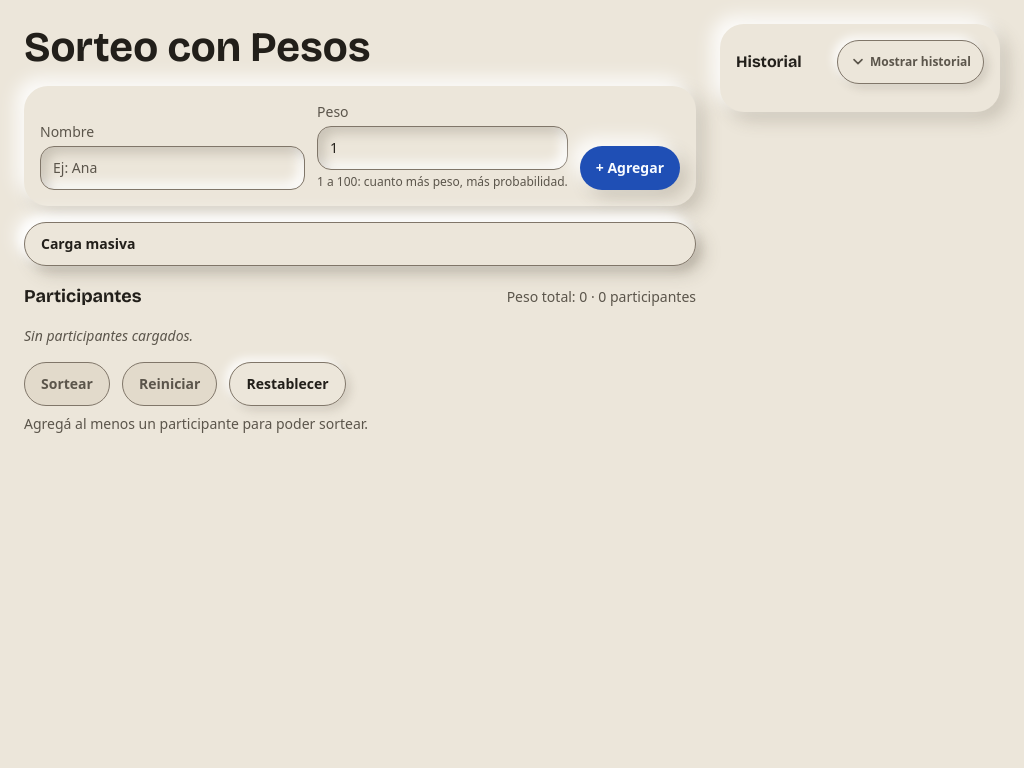
Test case: WeightedPage — participantes y barras › agrega participantes y muestra las barras de % proporcionales
Type "Ana" into the field labelled "Nombre" at (172, 168), box 40,146 -> 305,190
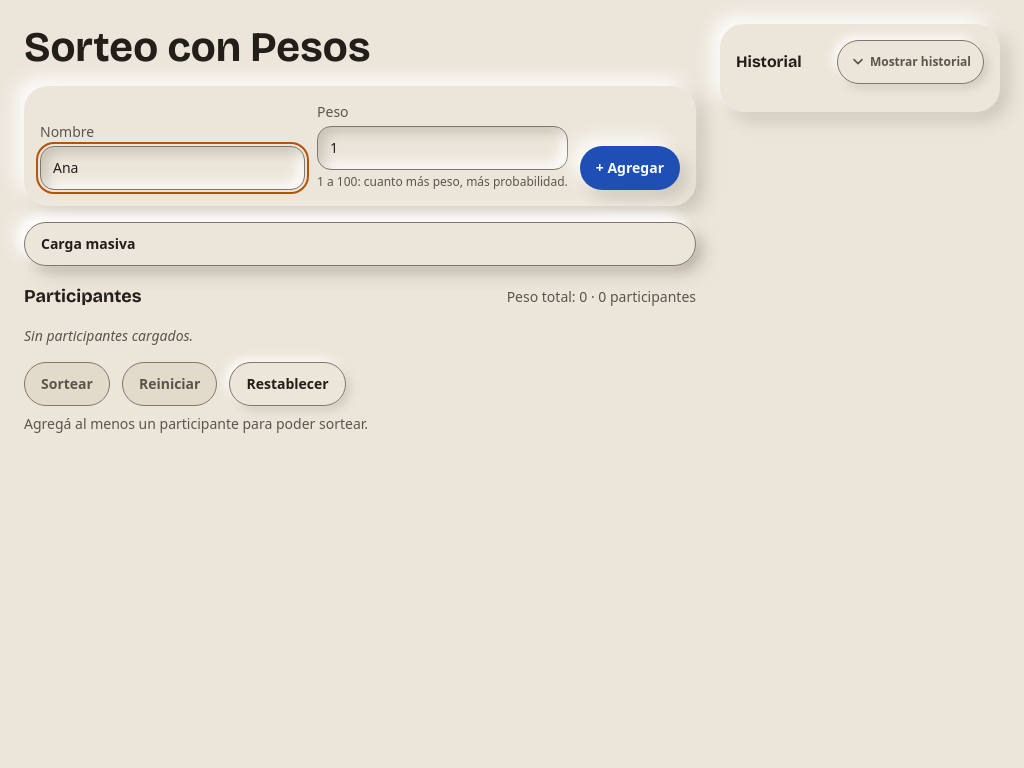
Replace the text in the number field labelled "Peso" with "3" at (442, 148), box 317,126 -> 568,170
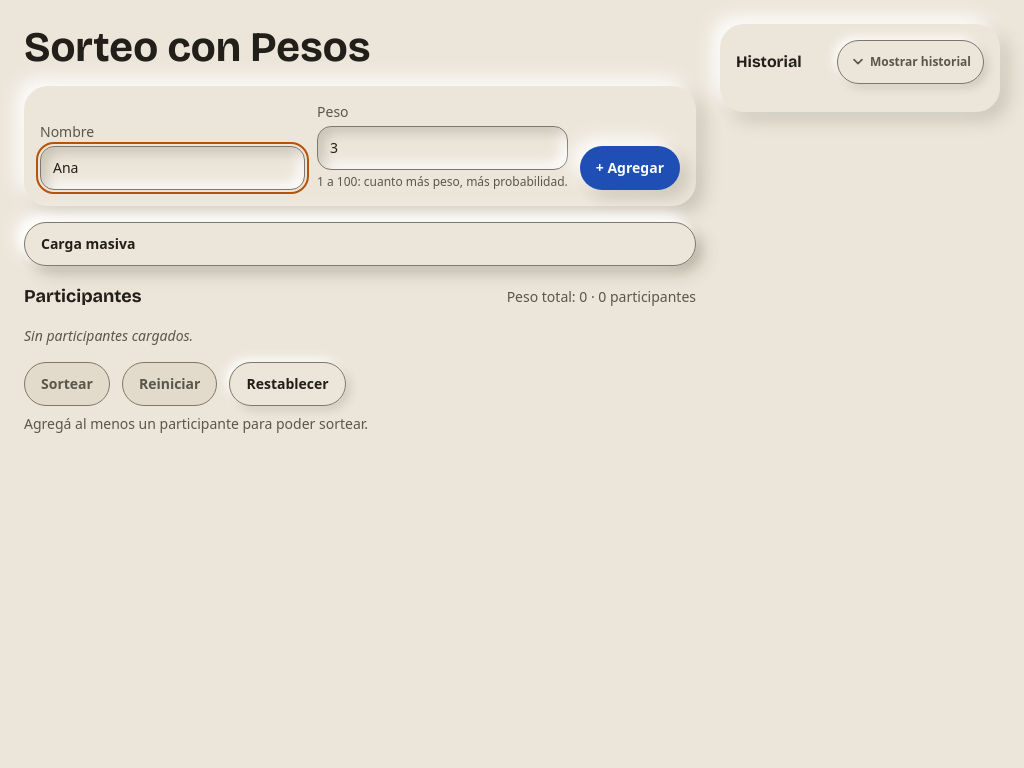
Click the button "+ Agregar" at (630, 168), box 580,146 -> 680,190
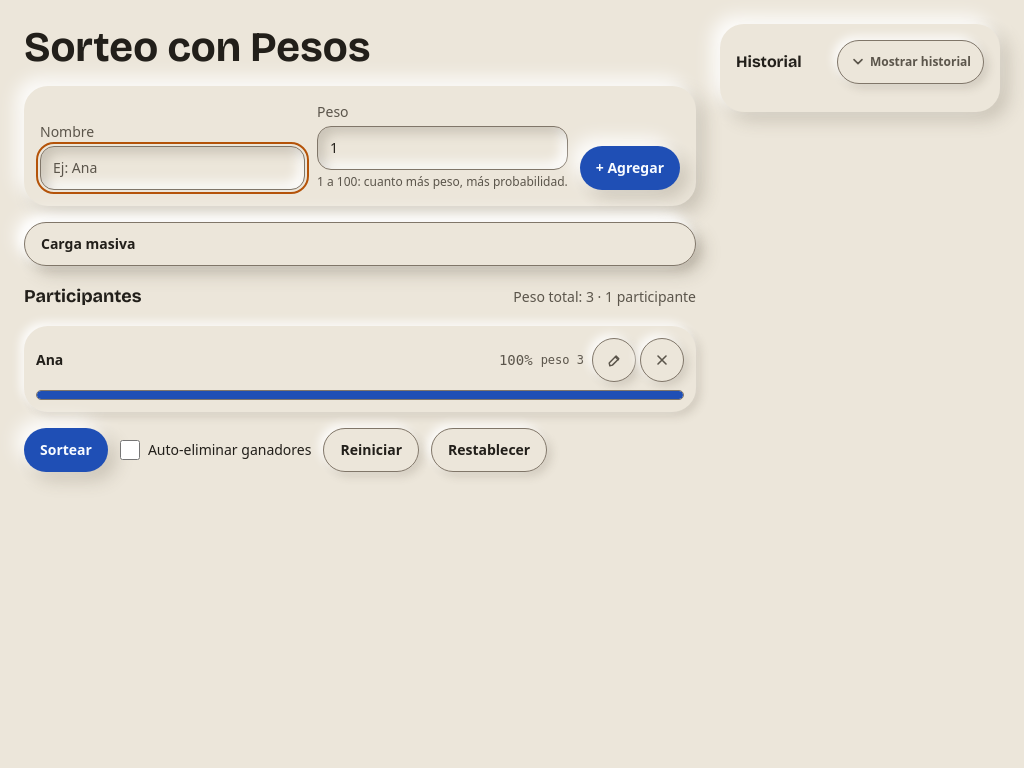
Type "Juan" into the field labelled "Nombre" at (172, 168), box 40,146 -> 305,190
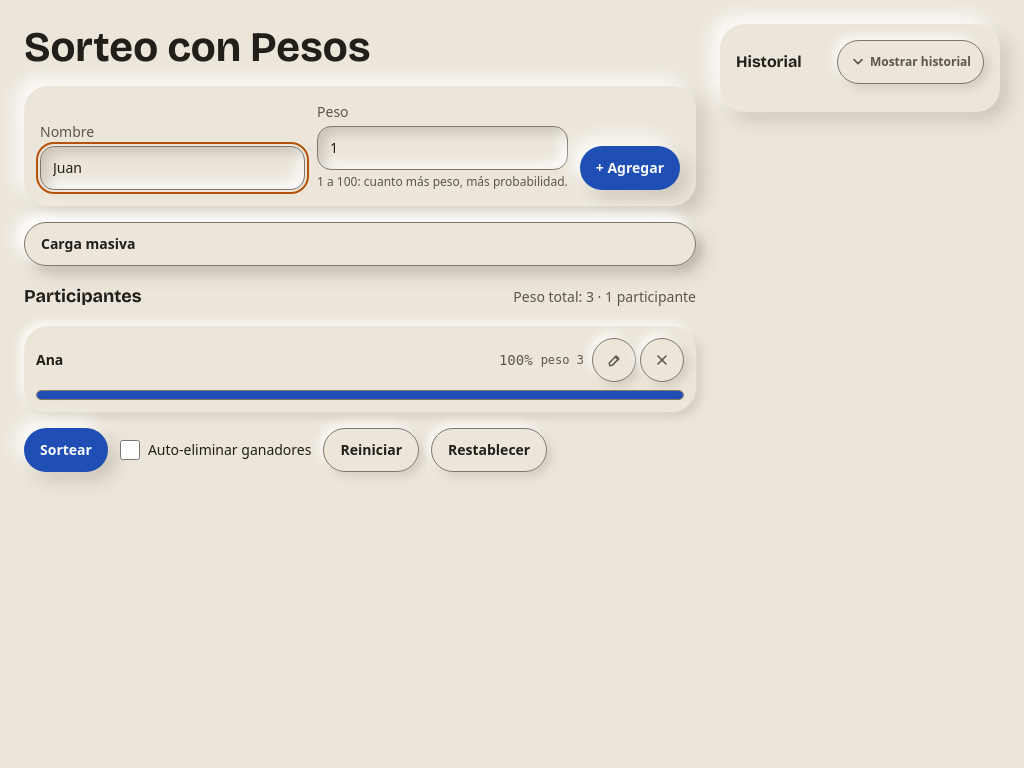
Replace the text in the number field labelled "Peso" with "7" at (442, 148), box 317,126 -> 568,170
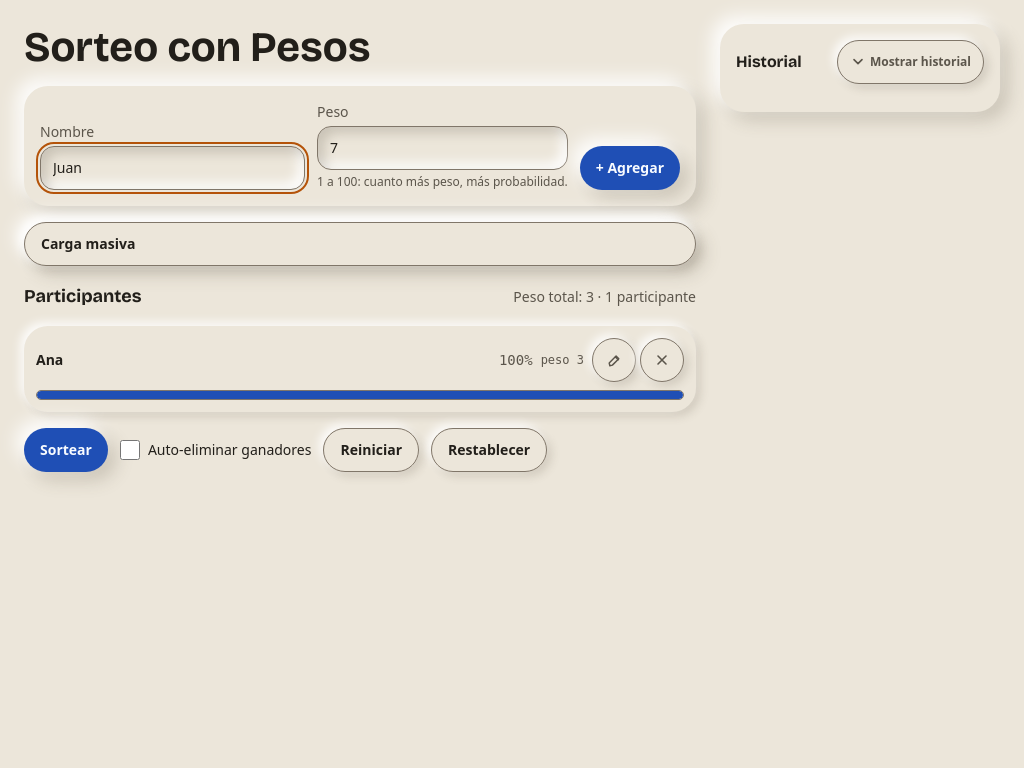
Click the button "+ Agregar" at (630, 168), box 580,146 -> 680,190
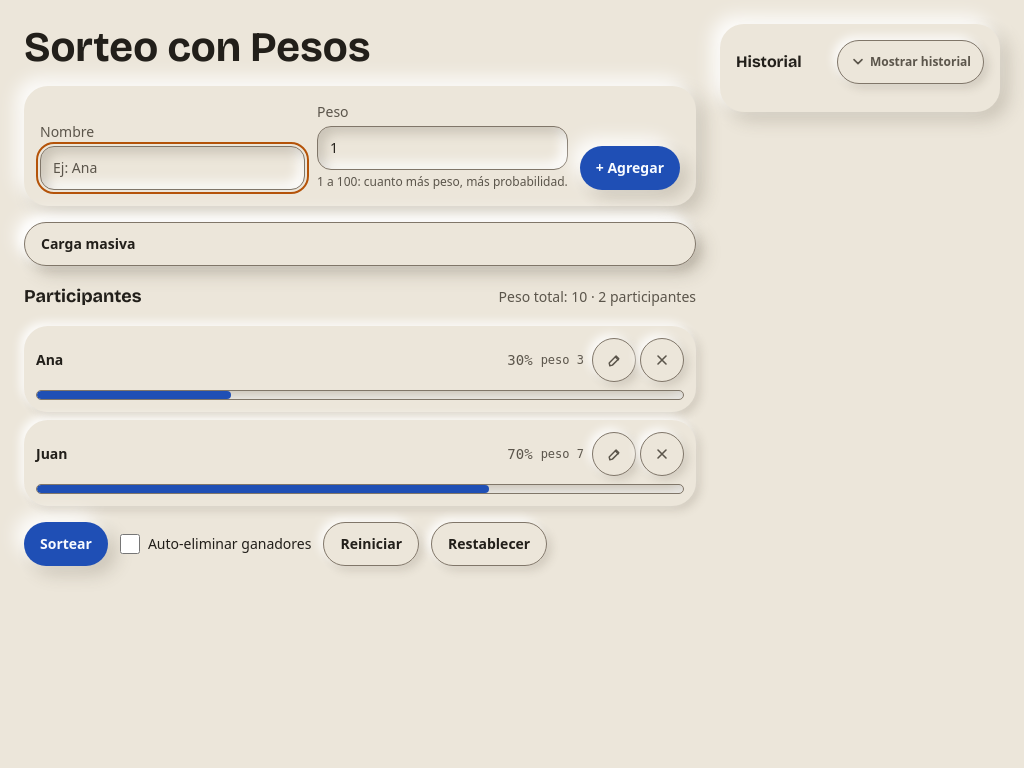
expect the text "peso 3" is shown: met, box 541,352 -> 584,368
expect the text "peso 7" is shown: met, box 541,446 -> 584,462
expect the text "30%" is shown: met, box 507,350 -> 533,370
